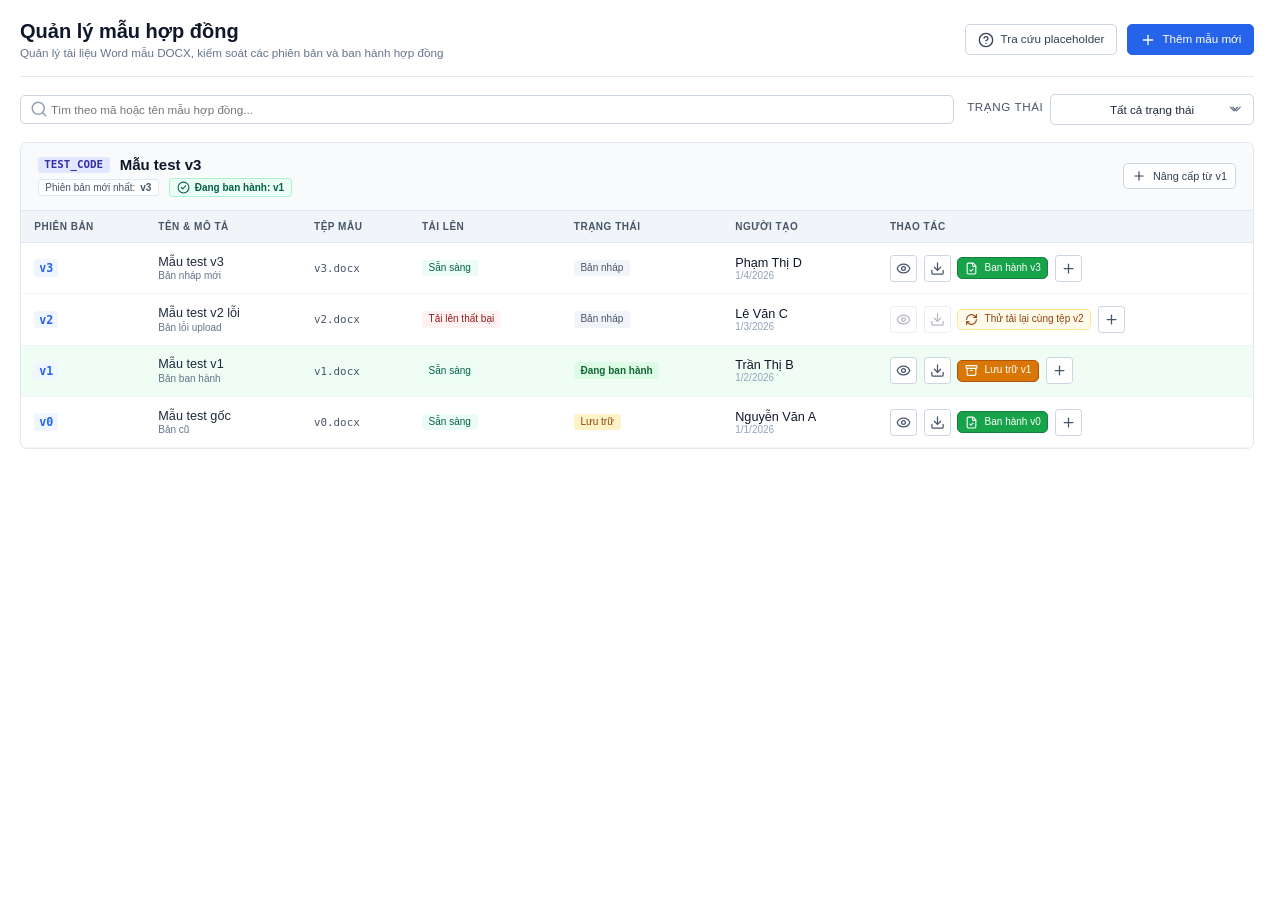
Test case: ContractTemplateManager › opens a DOCX preview modal for each ready version
Check: the text "TEST_CODE" is shown, box [38,157,110,173]
Click the button named "Xem trước v1": (904, 371) [890,357,917,384]
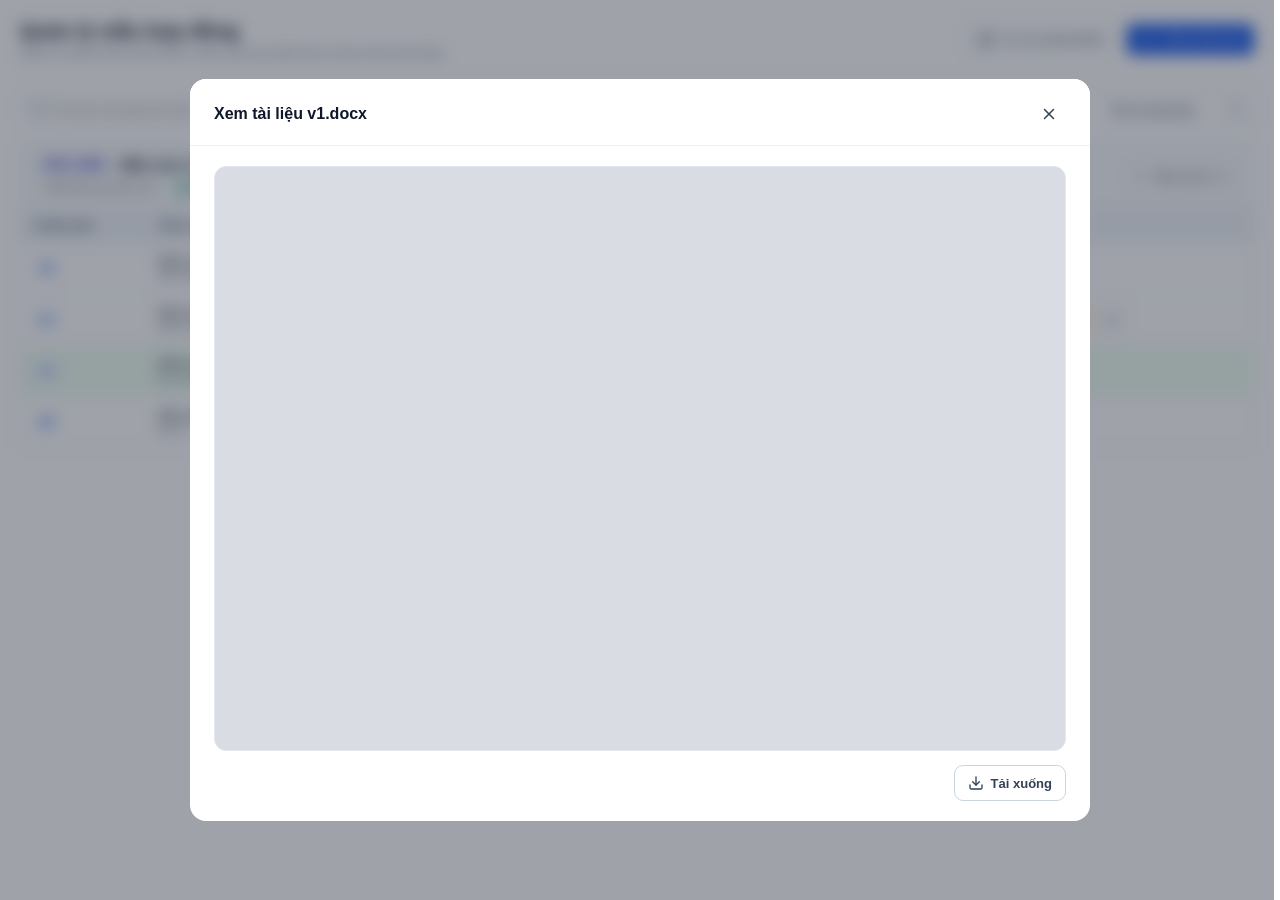
Check: the heading "Xem tài liệu v1.docx" is shown, box [214,105,367,123]
Click the button named "Đóng": (1049, 114) [1032,97,1066,131]
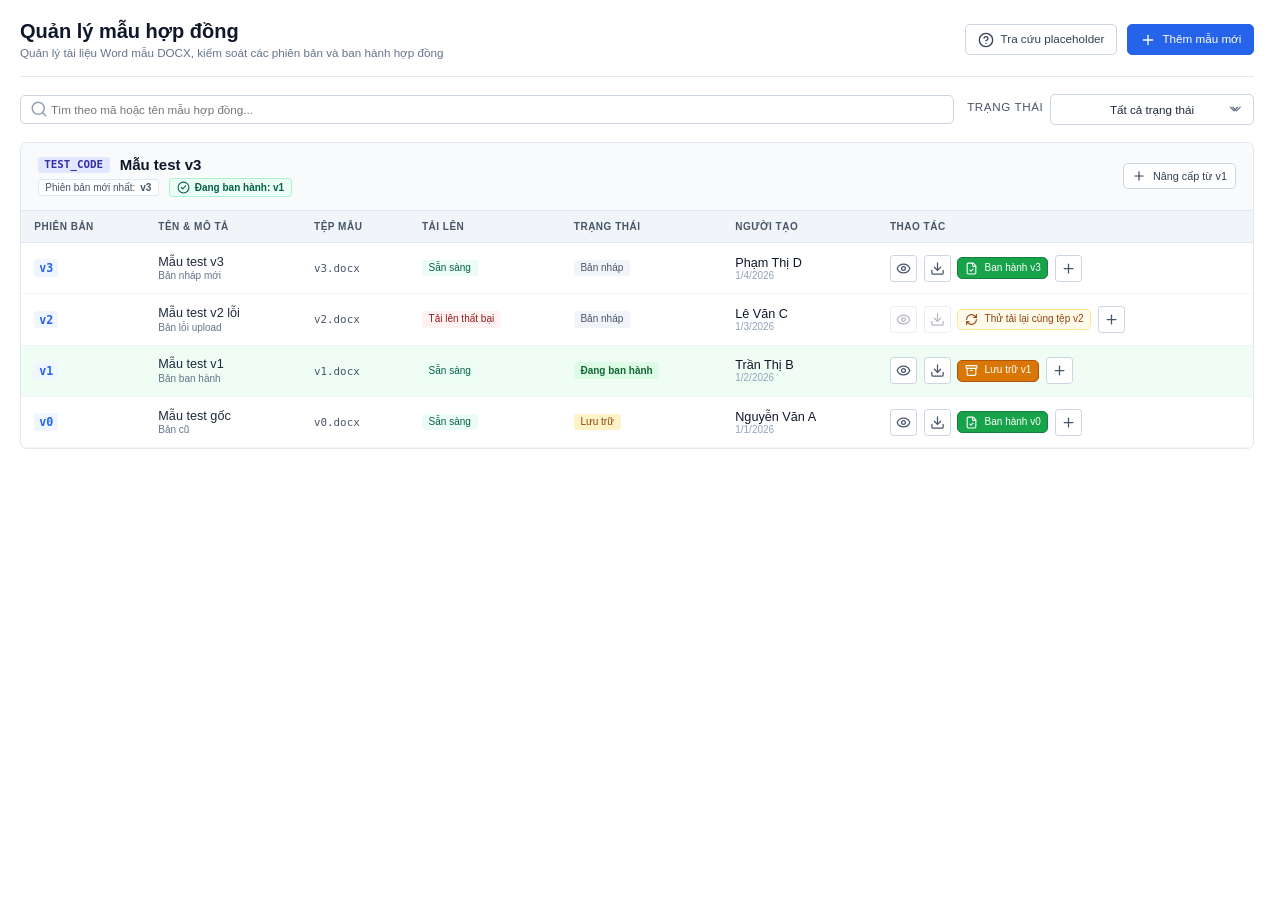
Check: the heading "Xem tài liệu v1.docx" is gone
